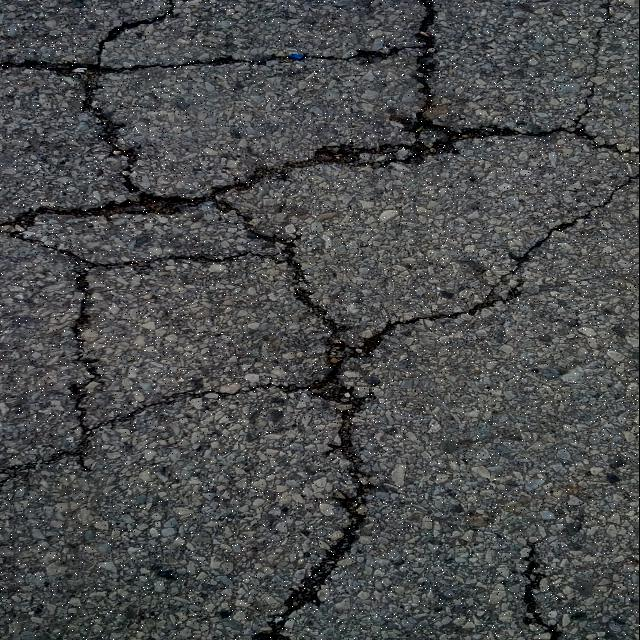Crack: (0, 0, 640, 640), (523, 544, 564, 640)
